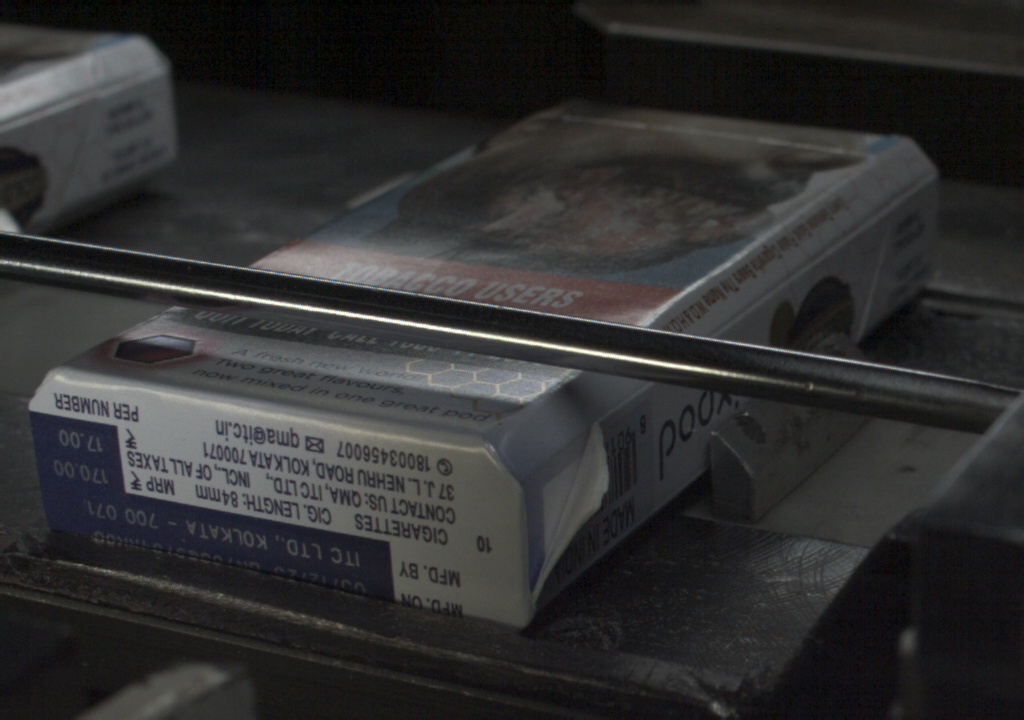g_bottom: (28, 380, 514, 629)
g_label: (39, 489, 392, 597)
g_lmiter: (720, 270, 802, 334), (805, 205, 887, 269)
g_miter: (897, 166, 939, 211)
ng_lmiter: (530, 420, 609, 594)
price: (36, 420, 122, 489)
